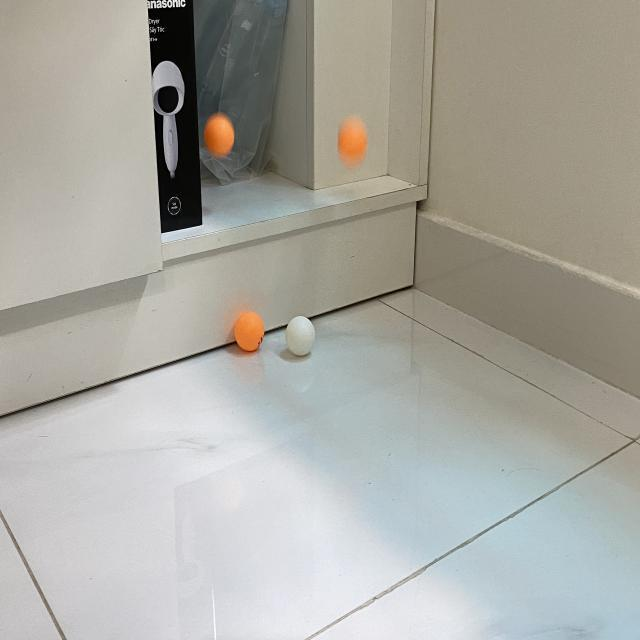ping-pong-ball: (338, 119, 368, 170), (286, 316, 316, 356), (205, 115, 234, 156), (235, 312, 265, 351)
